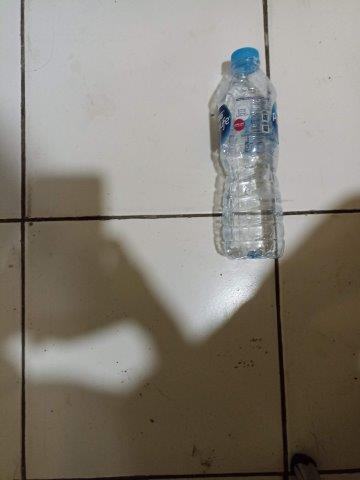botolplastik: (220, 47, 285, 257)
